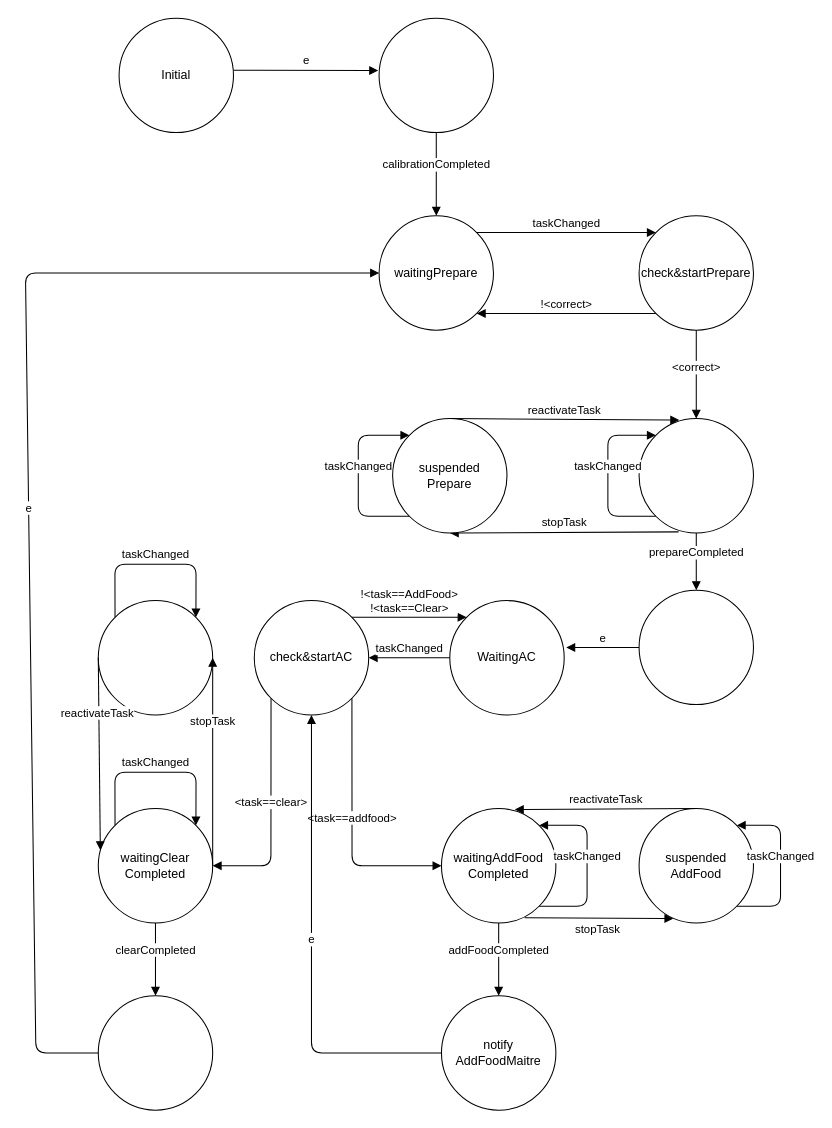
Image size: 832x1128. Some labels were removed from this diagram. The box of each missing label's shape, as (x1, y1, x2, y2) in pixels:
notify ClearMaitre: (97, 995, 213, 1110)
notify PrepareMaitre: (638, 589, 753, 705)
suspended Clear: (97, 600, 213, 715)
WaitingCalibration: (378, 17, 493, 133)
waitingPrep Completed: (638, 418, 753, 533)
